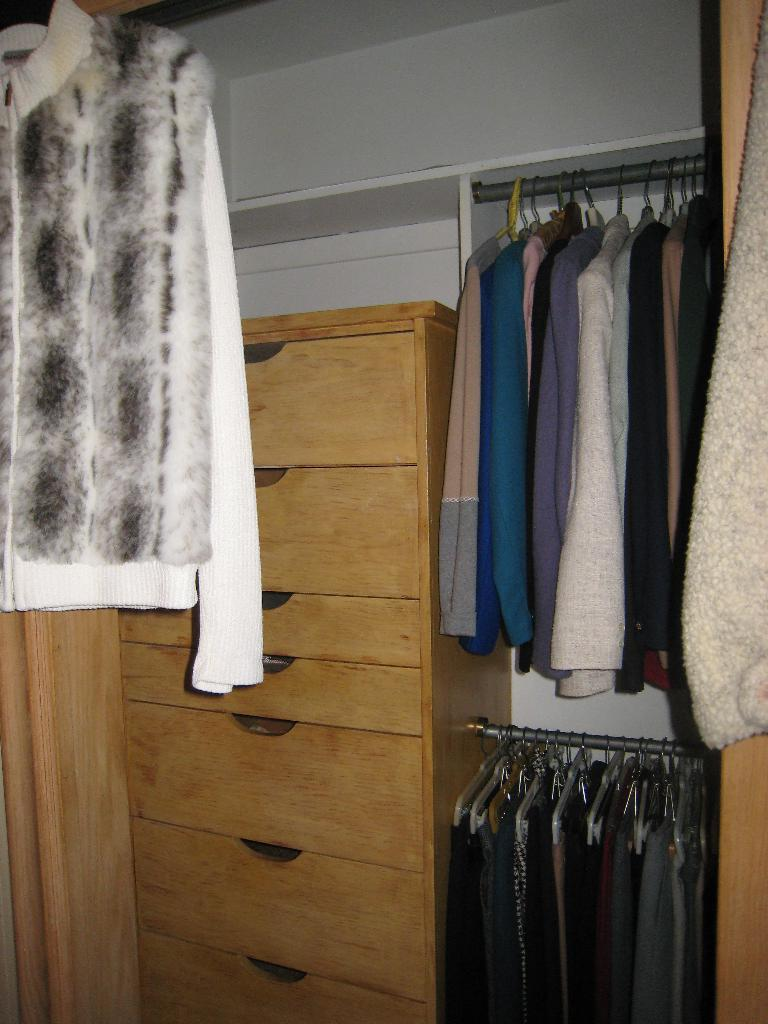cabinet_door: (140, 820, 418, 972), (134, 703, 428, 832), (152, 940, 406, 1024), (134, 642, 420, 716), (264, 460, 416, 582), (256, 338, 414, 450), (266, 582, 420, 667)
handle: (246, 934, 310, 1000), (225, 700, 296, 751), (240, 820, 304, 874), (246, 444, 292, 505), (258, 573, 296, 620), (261, 636, 295, 684), (237, 336, 289, 367)
